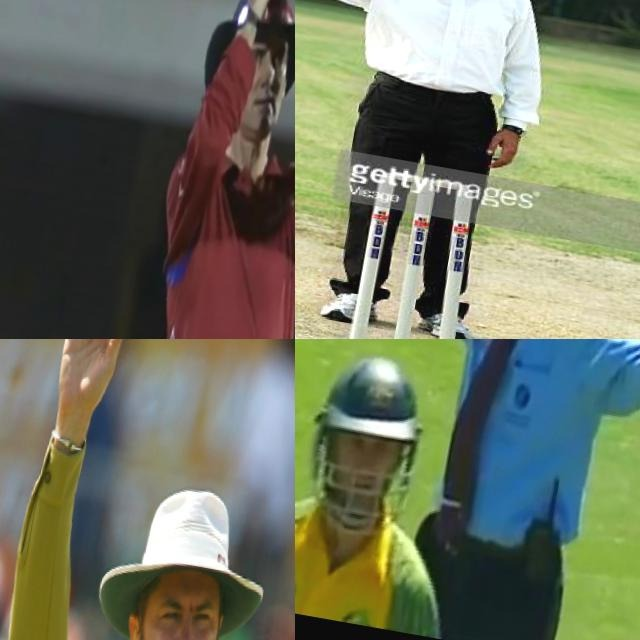No_Ball: (295, 0, 572, 339)
Six: (0, 339, 295, 640), (88, 0, 295, 339)
Wide: (295, 339, 640, 550)
